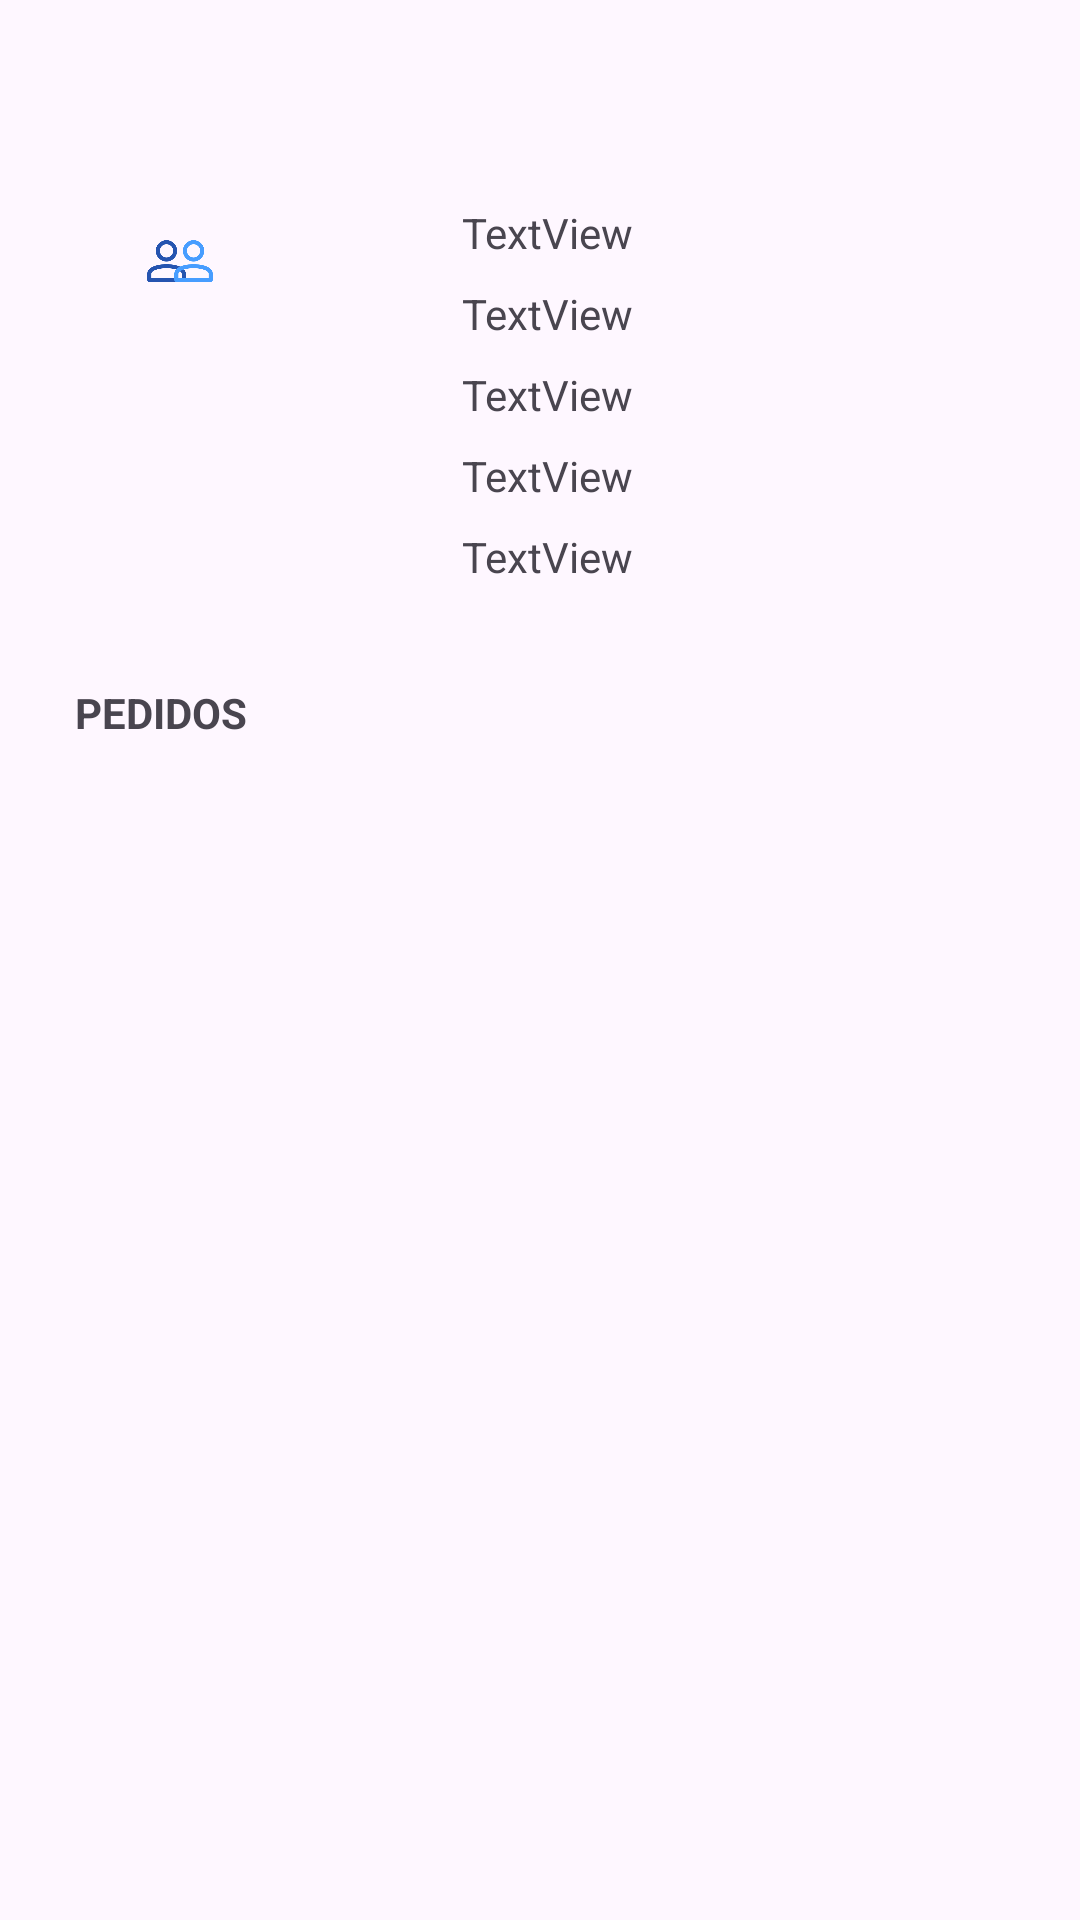

Named icons in this screenshot (1080 x 1920) and their centers, point (x, y):
partnerimage: point (180, 261)
